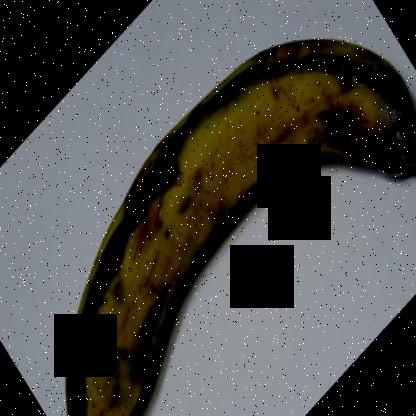overripe: (49, 25, 415, 415)
rotten: (335, 66, 415, 196)
